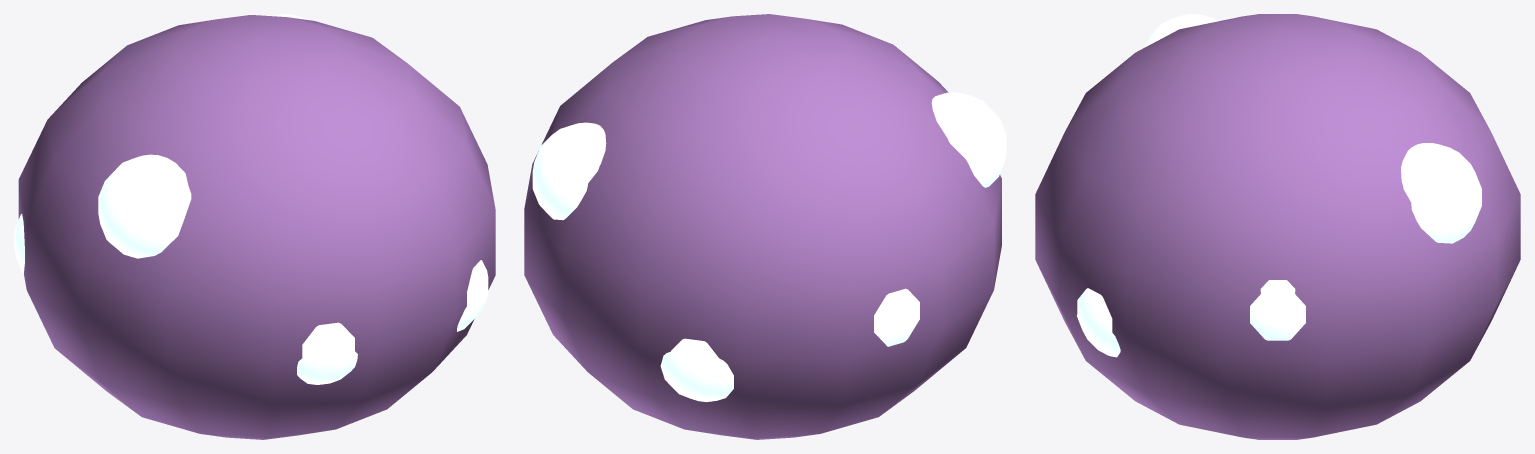
Rendered from alien__pod.fbx.
3 renders of one model, left to right at view 1: azimuth 30°, elevation 25°; view 2: azimuth 150°, elevation 25°; view 3: azimuth 270°, elevation 25°, orthographic.
Parts seen in each view (by area): view 1: alien__pod; view 2: alien__pod; view 3: alien__pod.
Part boxes in pixels (x1=…): alien__pod: x1=14, y1=14, x2=495, y2=439; alien__pod: x1=524, y1=14, x2=1006, y2=439; alien__pod: x1=1035, y1=14, x2=1520, y2=439.
Size of the model in its own units: 1.76 by 1.53 by 1.77.
